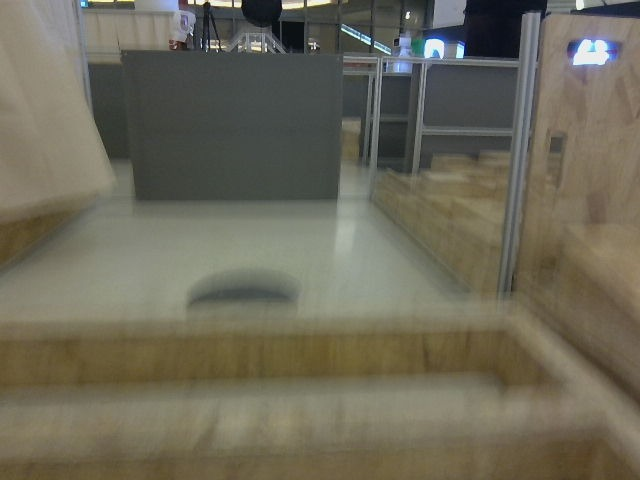curtain: (0, 0, 115, 250)
